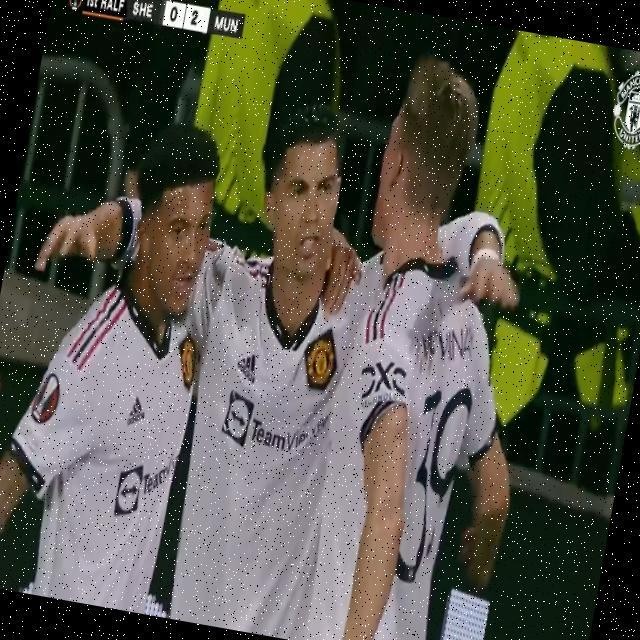Adidas: (233, 348, 260, 385), (126, 393, 150, 429)
TeamViewer: (220, 391, 330, 463), (113, 448, 178, 524)
